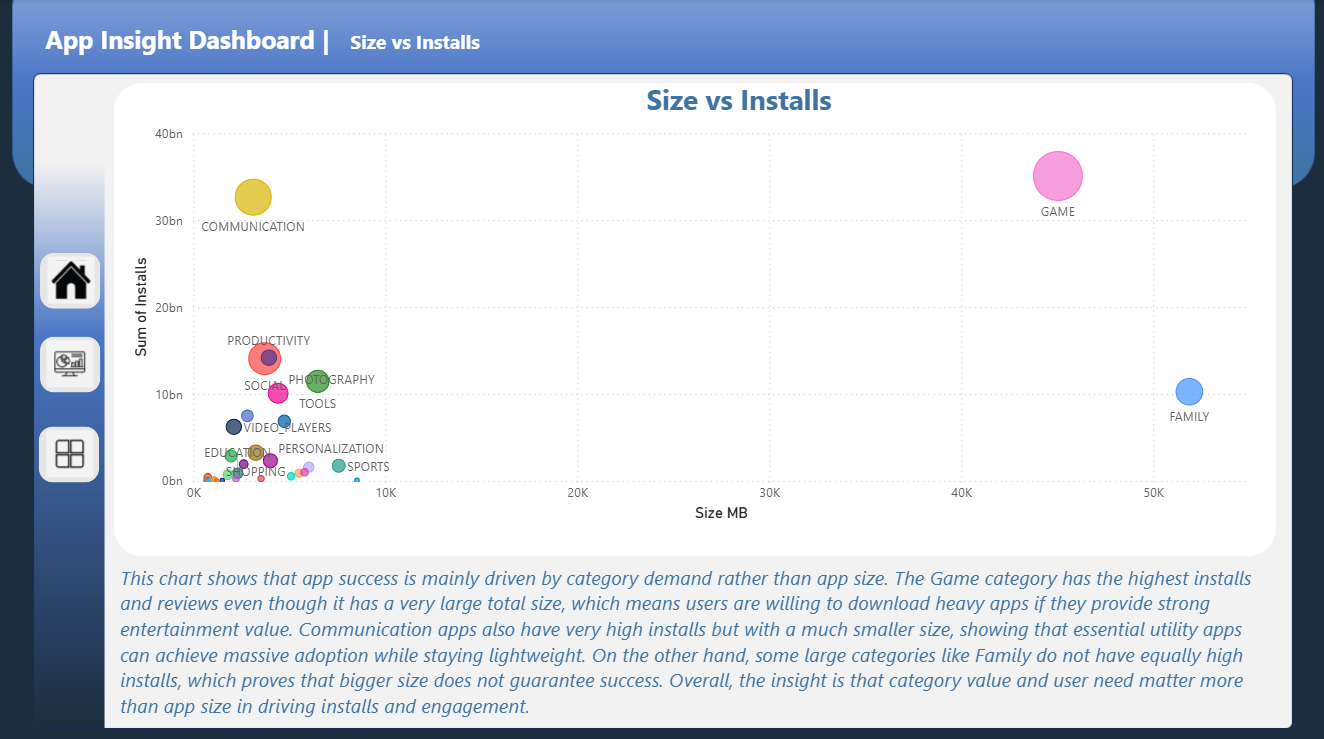

Layout of this report page (visuals, bound fields, positions):
{"tool":"powerbi","page":{"name":"scatter","canvas":[1280,720],"ordinal":2},"visuals":[{"type":"shape","box":[109.8,80.8,1122,457.2],"z":0},{"type":"scatterChart","fields":{"Y":["Sum(Apps.Installs)"],"Series":["Apps.Category"],"Size":["Sum(Apps.Reviews)"],"X":["Sum(Apps.Size MB)"]},"box":[123.1,115.8,1097.9,393.3],"z":1000},{"type":"textbox","box":[618.9,73.6,193,50.7],"z":2000},{"type":"textbox","box":[111,540.5,1122,167.7],"z":3000},{"type":"shape","box":[38.4,244.6,58.3,54],"z":4000},{"type":"shape","box":[38.4,325.7,58.3,54],"z":5000},{"type":"actionButton","box":[44.1,330,45.5,45.5],"z":6000},{"type":"shape","box":[37,412.4,58.3,54],"z":7000},{"type":"actionButton","box":[44.1,416.7,45.5,45.5],"z":8000},{"type":"actionButton","box":[45.5,248.9,45.5,45.5],"z":9000},{"type":"textbox","box":[38.6,18.1,487.4,44.6],"z":10000}]}

Visuals, with their boxes on the page's 1280x720 design canvas (x1, y1, x2, y2). These are canvas units, not pixel positions in the 1324x739 screenshot, which may show the page scaled, cropped or inside an application window:
shape: 110 81 1232 538
scatterChart - Sum(Apps.Installs) x Apps.Category: 123 116 1221 509
textbox: 619 74 812 124
textbox: 111 540 1233 708
shape: 38 245 97 299
shape: 38 326 97 380
actionButton: 44 330 90 376
shape: 37 412 95 466
actionButton: 44 417 90 462
actionButton: 46 249 91 294
textbox: 39 18 526 63
